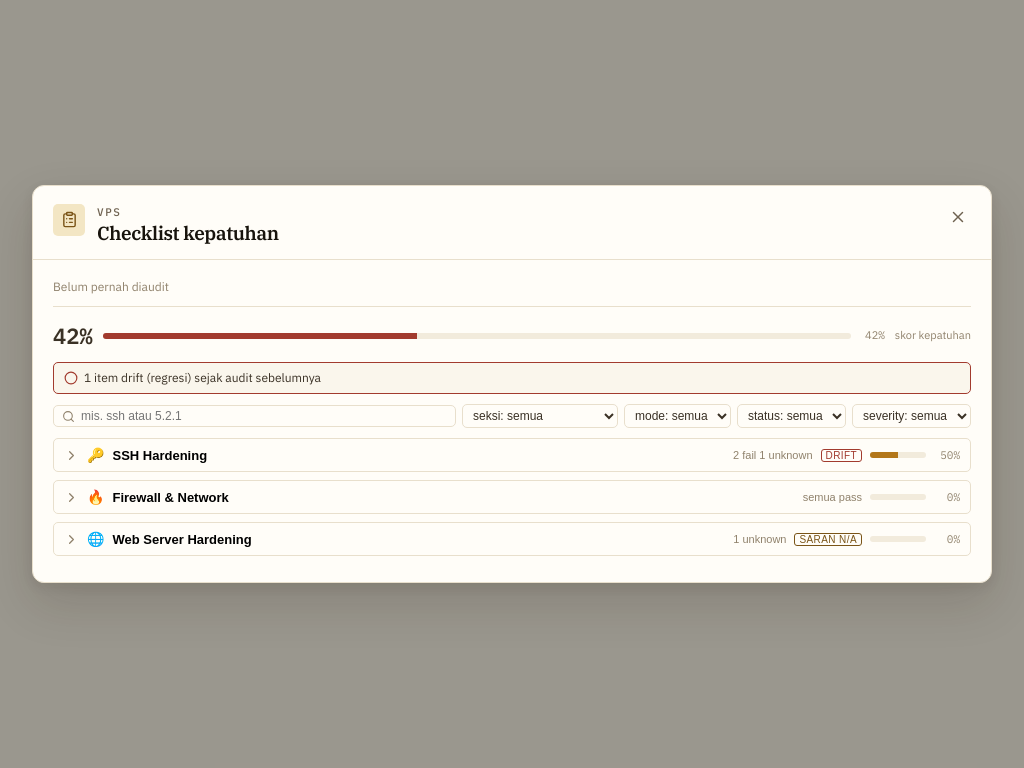
Test case: VpsChecklistModal (SPEC-220/221 · UI modal) › default collapsed: item tersembunyi, header seksi tampil (AC-9)
Expected: the text with test id "score-total" reads "42%", [53,319,93,352]
Expected: the text "Nonaktifkan login root" is not shown
Step 1. Click the button with test id "section-ssh" → (160, 455), box [54,439,970,471]
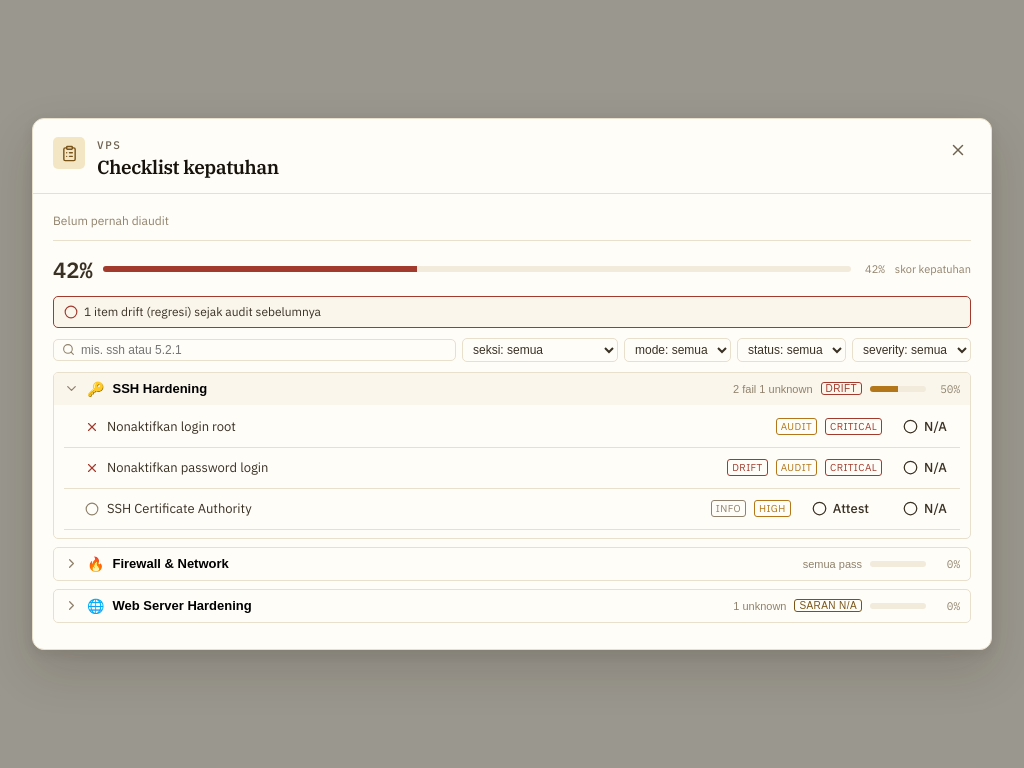
Step 2. Click the button with test id "section-firewall" → (171, 564), box [54,548,970,580]
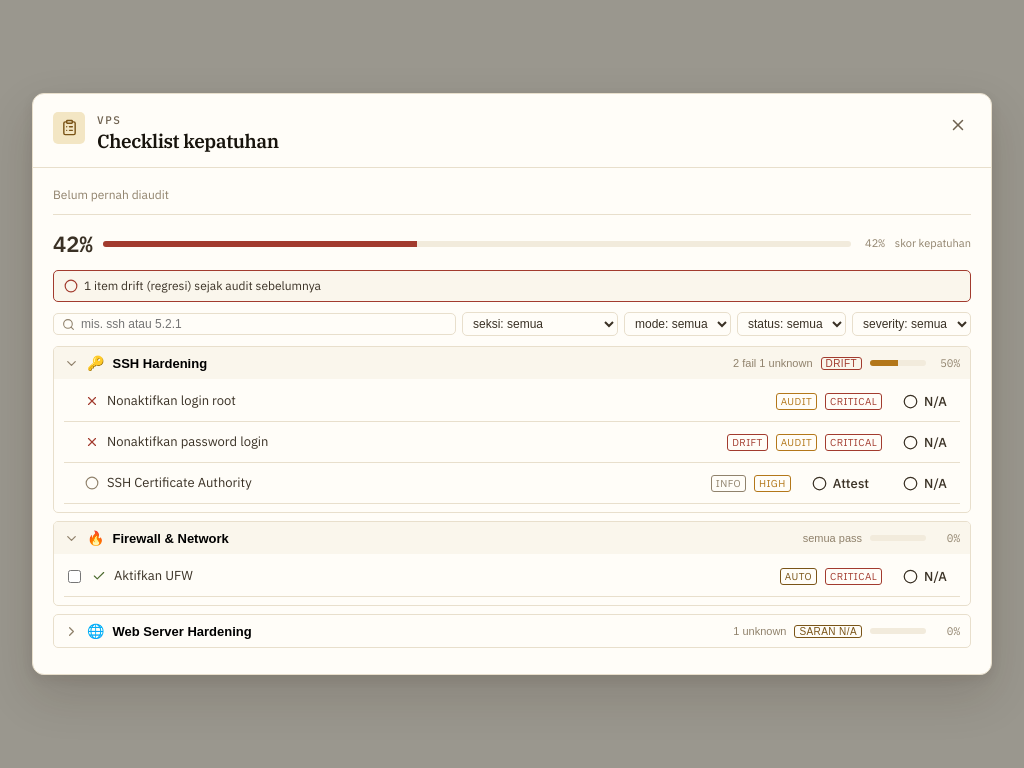
Now the text "Nonaktifkan login root" is shown, box [107,392,236,409]
Now the text "Aktifkan UFW" is shown, box [114,567,193,584]
